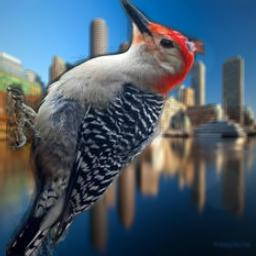Woodpecker: (6, 0, 205, 256)
